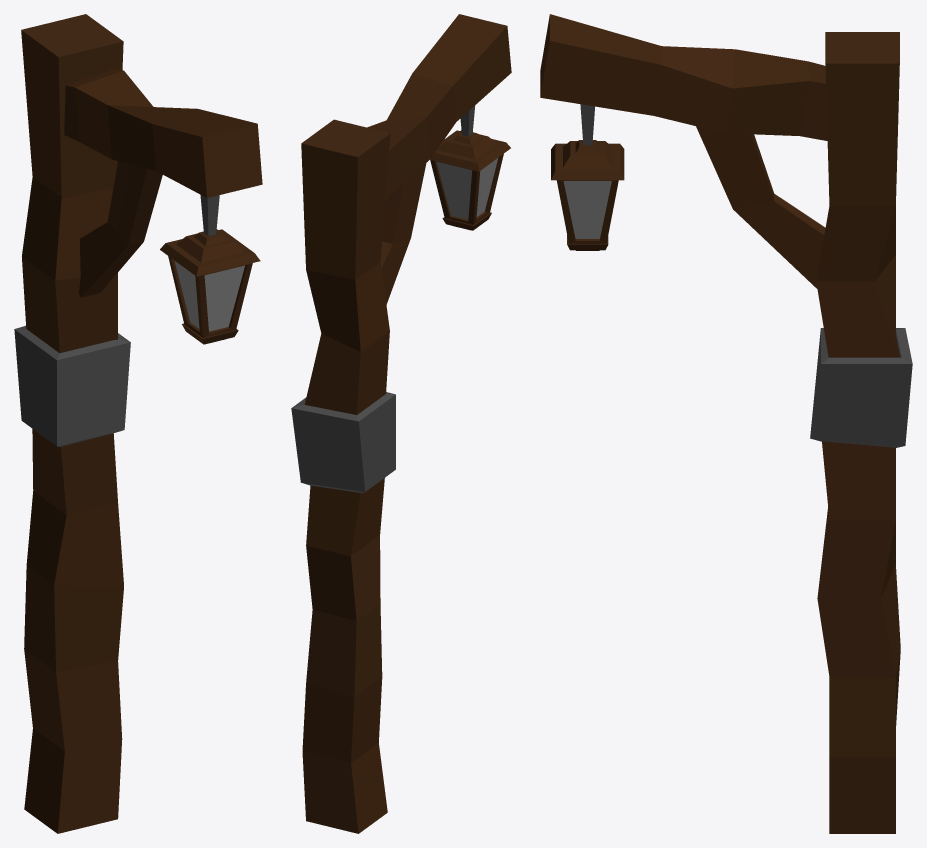
The model's file is farolaColor2.fbx.
The picture shows the model from 3 angles, left to right: view 1: azimuth 30°, elevation 25°; view 2: azimuth 150°, elevation 25°; view 3: azimuth 270°, elevation 25°; orthographic projection. The views are drawn at different scales.
Parts seen in each view (by area): view 1: Cube.9014, Cube.9016, Cube.9017, Cube.9015, Cube.9018, Cube.9019, Cube.9020; view 2: Cube.9014, Cube.9016, Cube.9017, Cube.9018, Cube.9015, Cube.9019; view 3: Cube.9014, Cube.9016, Cube.9017, Cube.9015, Cube.9018, Cube.9019.
Part boxes in pixels (<box>): Cube.9014: <box>21,14,123,833</box>; Cube.9016: <box>64,68,262,197</box>; Cube.9017: <box>14,325,130,446</box>; Cube.9015: <box>78,161,162,297</box>; Cube.9018: <box>160,229,260,344</box>; Cube.9019: <box>174,261,244,331</box>; Cube.9020: <box>200,194,219,236</box>; Cube.9014: <box>301,119,390,833</box>; Cube.9016: <box>367,14,511,199</box>; Cube.9017: <box>291,392,395,493</box>; Cube.9018: <box>430,130,510,230</box>; Cube.9015: <box>380,163,426,304</box>; Cube.9019: <box>436,158,498,219</box>; Cube.9014: <box>816,32,900,833</box>; Cube.9016: <box>540,14,827,140</box>; Cube.9017: <box>810,328,912,447</box>; Cube.9015: <box>696,126,825,288</box>; Cube.9018: <box>551,140,624,250</box>; Cube.9019: <box>563,181,611,238</box>.
Bounding box in the file's own units: 184 × 1906 × 812.
